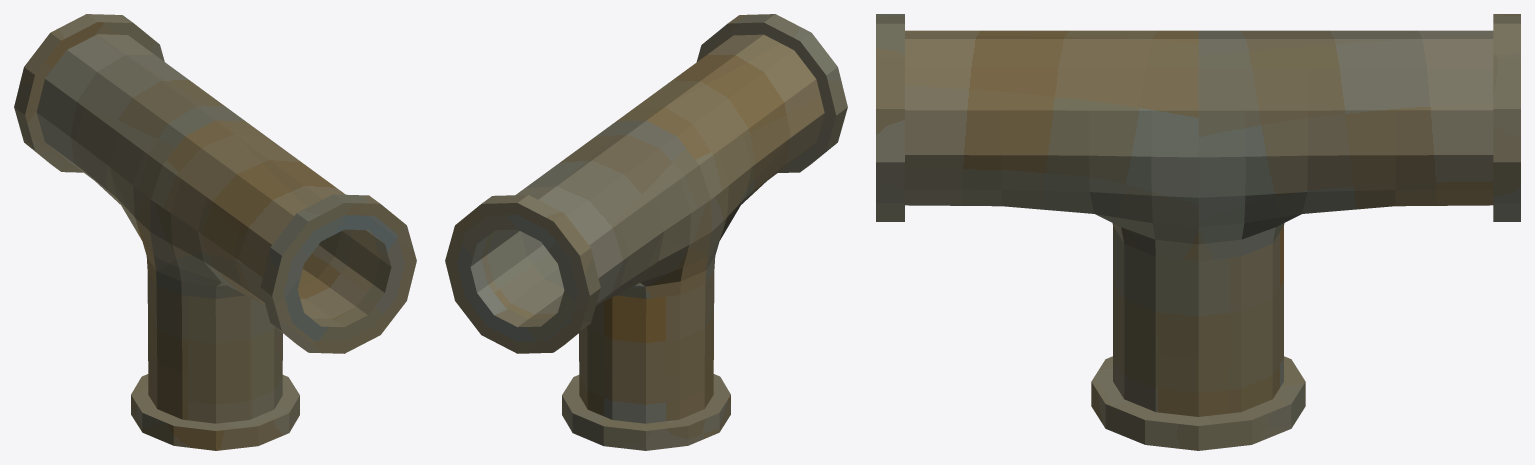
File: pipe_tbone.fbx
3 views of the same model, side by side, from view 1: azimuth 30°, elevation 25°; view 2: azimuth 150°, elevation 25°; view 3: azimuth 270°, elevation 25° (orthographic). The views are drawn at different scales.
Parts seen in each view (by area): view 1: pipe_tbone; view 2: pipe_tbone; view 3: pipe_tbone.
Part boxes in pixels (<box>): pipe_tbone: <box>14,14,416,450</box>; pipe_tbone: <box>445,14,847,450</box>; pipe_tbone: <box>876,14,1520,450</box>.
Bounding box in the file's own units: 236 × 473 × 723.
Materials: 1 (1 with a texture image).
